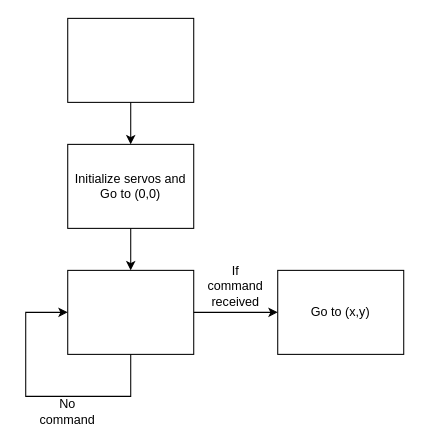
Some shapes in this 422 by 446 pixel diagram are drawn without their labels. Here are the shapes that lost their labels. From the top down, the centre of each, then its label:
At point (130, 59): "Start".
At point (130, 311): "Wait for command".
